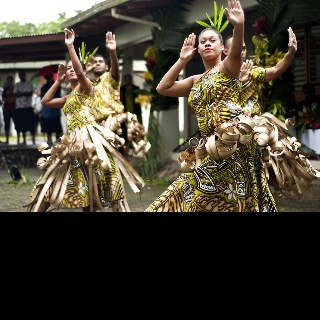without_mask: (197, 28, 221, 60), (64, 60, 80, 79), (90, 57, 106, 73), (240, 39, 247, 63), (124, 76, 131, 85)
